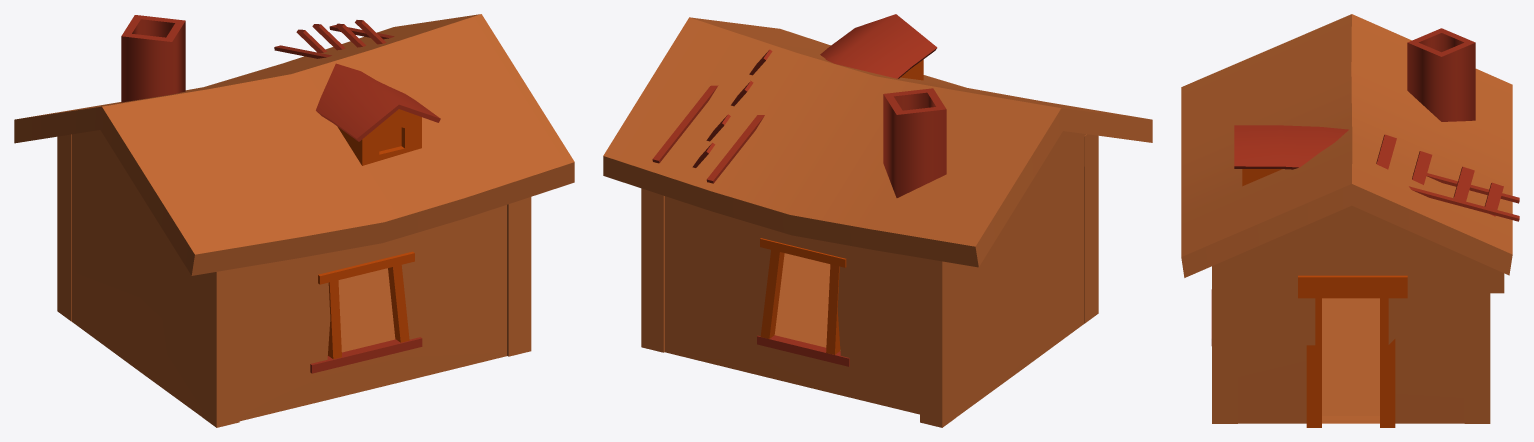
File: house2.fbx
3 views of the same model, side by side, from view 1: azimuth 30°, elevation 25°; view 2: azimuth 150°, elevation 25°; view 3: azimuth 270°, elevation 25° (orthographic). The views are drawn at different scales.
Parts seen in each view (by area): view 1: house2, Box001, Box027, Tube001, Box028, Box026, Box012, Box016, Box013, Box017; view 2: house2, Box001, Tube001, Box026, Box029, Box027, Box014, Box010, Box015, Box011, Box020, Box021; view 3: house2, Box001, Tube001, Box029, Box028, Box007, Box008, Box009, Box020, Box024, Box022, Box021 (+3 smaller).
Part boxes in pixels (box(x1,y1,x2,y2)): house2: box(14, 14, 574, 275); Box001: box(72, 130, 506, 421); Box027: box(202, 268, 239, 427); Tube001: box(121, 15, 185, 102); Box028: box(507, 197, 531, 356); Box026: box(57, 134, 71, 321); Box012: box(310, 337, 422, 373); Box016: box(388, 265, 409, 342); Box013: box(318, 251, 414, 284); Box017: box(328, 280, 341, 359); house2: box(603, 14, 1152, 267); Box001: box(664, 131, 1086, 417); Tube001: box(883, 88, 946, 197); Box026: box(920, 257, 955, 427); Box029: box(641, 188, 664, 352); Box027: box(1084, 134, 1098, 323); Box014: box(760, 250, 784, 338); Box010: box(757, 335, 849, 366); Box015: box(826, 264, 840, 354); Box011: box(760, 238, 846, 267); Box020: box(652, 85, 718, 163); Box021: box(706, 115, 764, 183); house2: box(1181, 14, 1512, 277); Box001: box(1238, 205, 1464, 423); Tube001: box(1407, 28, 1475, 121); Box029: box(1464, 256, 1490, 423); Box028: box(1212, 255, 1237, 423); Box007: box(1298, 275, 1407, 298); Box008: box(1380, 298, 1395, 427); Box009: box(1306, 298, 1321, 427); Box020: box(1409, 186, 1519, 221); Box024: box(1453, 166, 1474, 201); Box022: box(1376, 134, 1396, 169); Box021: box(1426, 173, 1519, 203).
Size of the model in its own units: 41.24 by 30.63 by 34.43.
